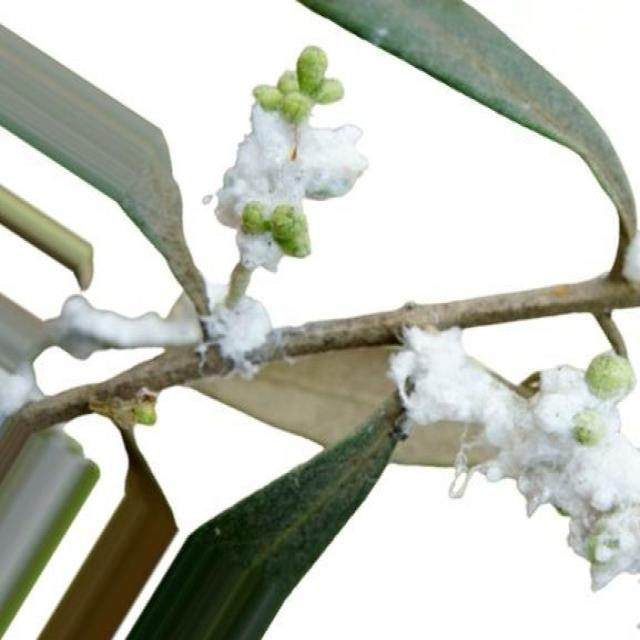Psyllid: (389, 327, 639, 575), (215, 101, 367, 270), (57, 294, 284, 375)
